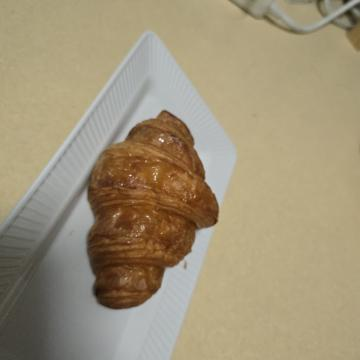croissant: (98, 129, 326, 284)
